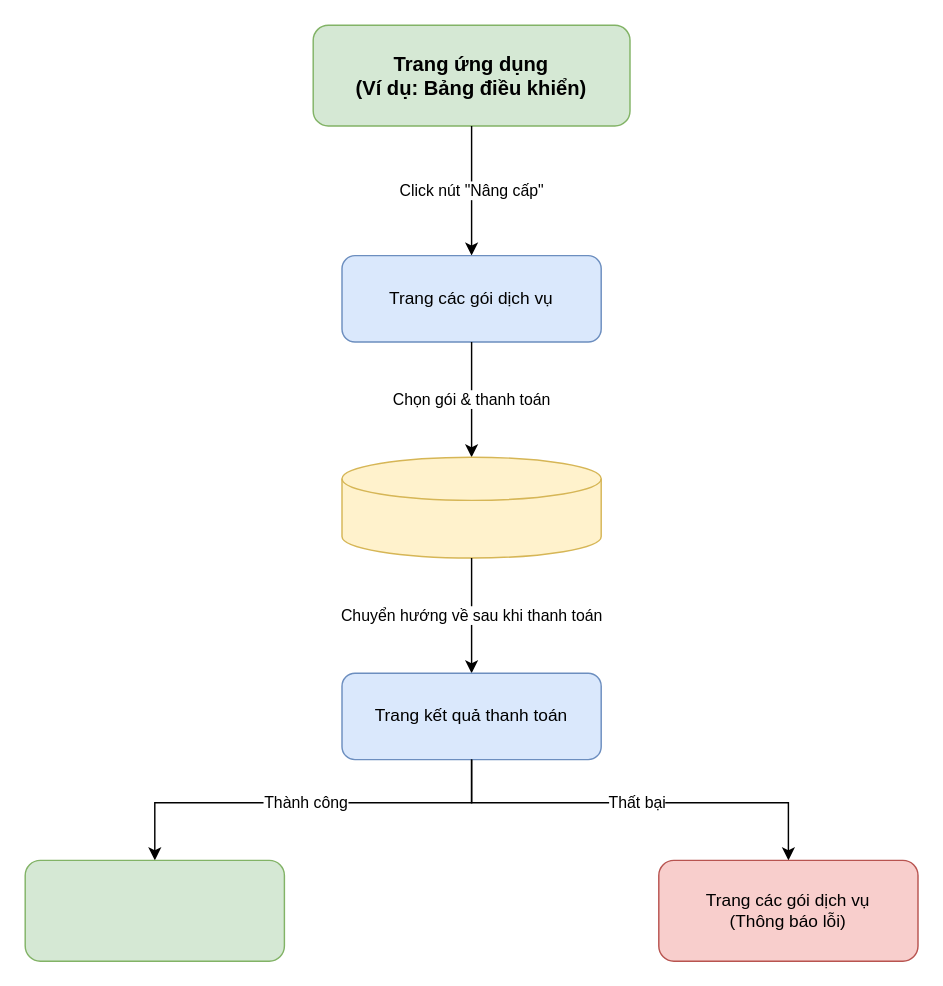
This 943x986 diagram has some shape labels left out. Here are the shapes that lost their labels. From the top down, the centre of each, then its label:
the point at 471,507: Cổng thanh toán (Bên ngoài, vd: MoMo)
the point at 154,910: Trang ứng dụng (Cập nhật trạng thái gói)
